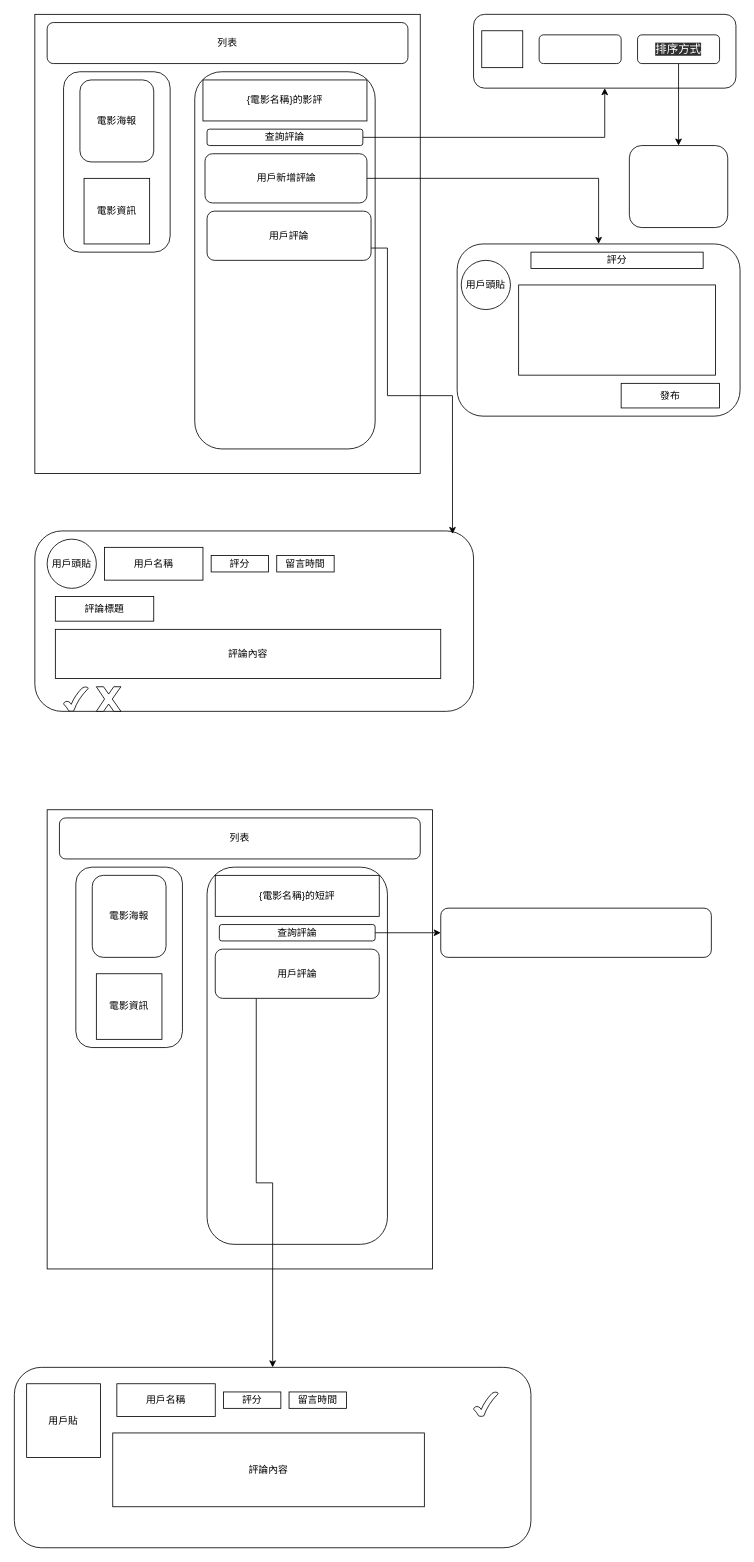
The diagram is 754 pixels wide and 1562 high, and some of its shapes have lost their labels. Each missing label, with the centre of its shape:
1.最新發布 2.最受歡迎 3.發布日期: point (678, 186)
依評級查詢: point (579, 49)
好評 一般 差評: point (575, 932)
是否暴雷: point (502, 49)
輸入內容: point (616, 329)
